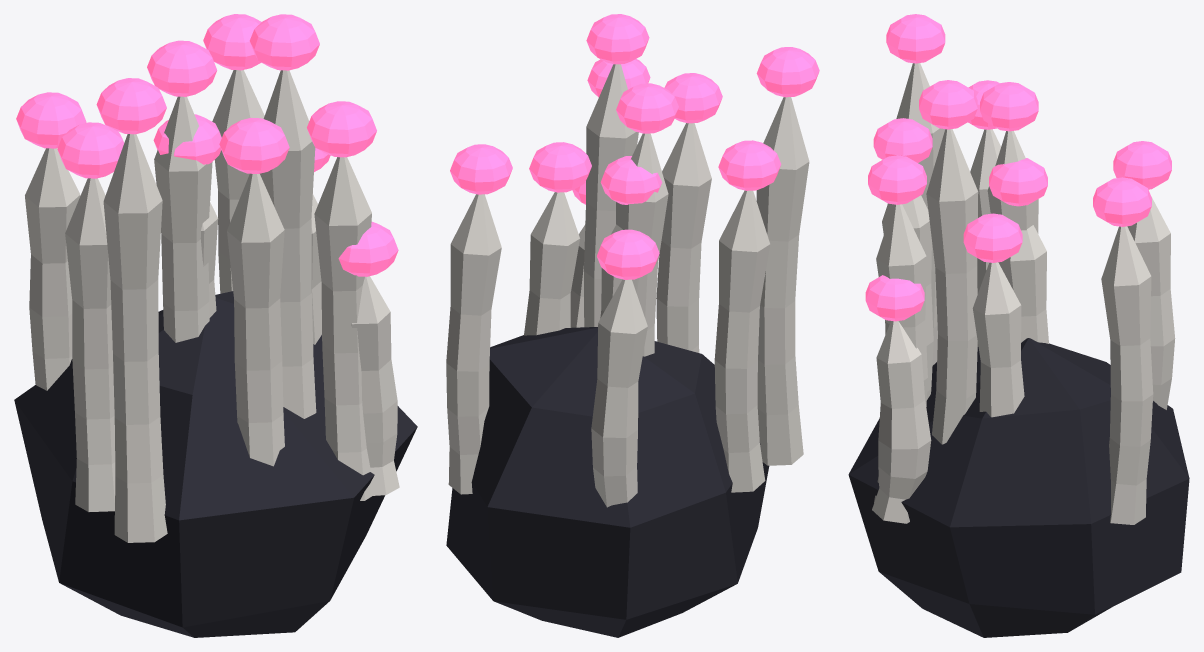
The model's file is TubeWorms.fbx.
3 views of the same model, side by side, from view 1: azimuth 30°, elevation 25°; view 2: azimuth 150°, elevation 25°; view 3: azimuth 270°, elevation 25° (orthographic). The views are drawn at different scales.
Parts seen in each view (by area): view 1: TubeWorms, TubeWorms_Glow; view 2: TubeWorms, TubeWorms_Glow; view 3: TubeWorms, TubeWorms_Glow.
Part boxes in pixels (x1,y1,x2,y2): TubeWorms: (14,70,417,637); TubeWorms_Glow: (16,14,398,276); TubeWorms: (446,64,809,637); TubeWorms_Glow: (450,14,819,279); TubeWorms: (848,63,1189,637); TubeWorms_Glow: (865,14,1171,321).
Bounding box in the file's own units: 175 × 300 × 176.
Materials: 2 (1 with a texture image).
